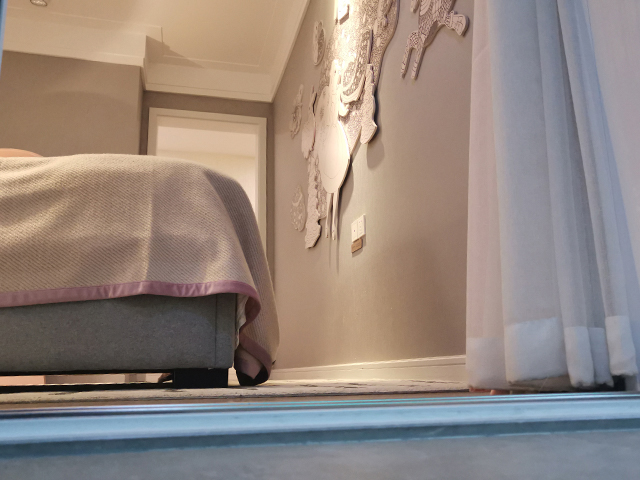bed: (1, 145, 282, 390)
carpet: (1, 378, 471, 405)
curtain: (463, 1, 640, 395)
